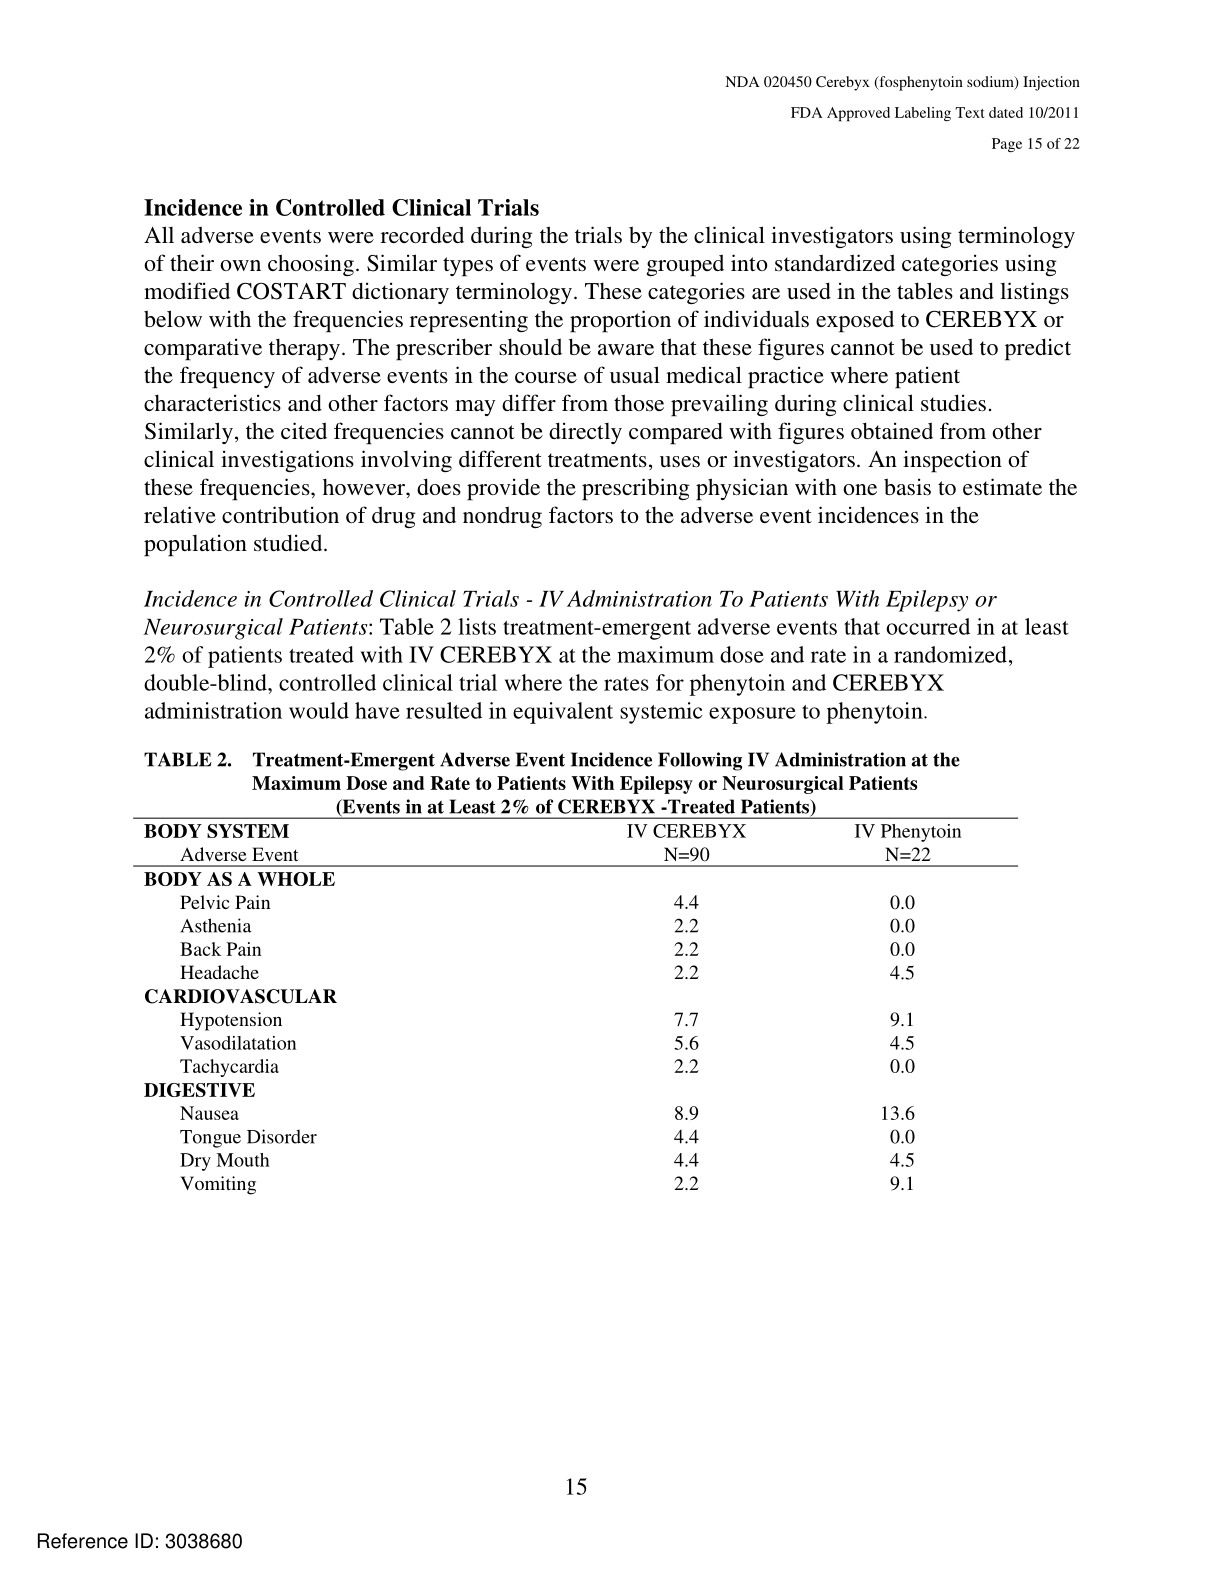partial_lined: (134, 816, 1017, 1194)
